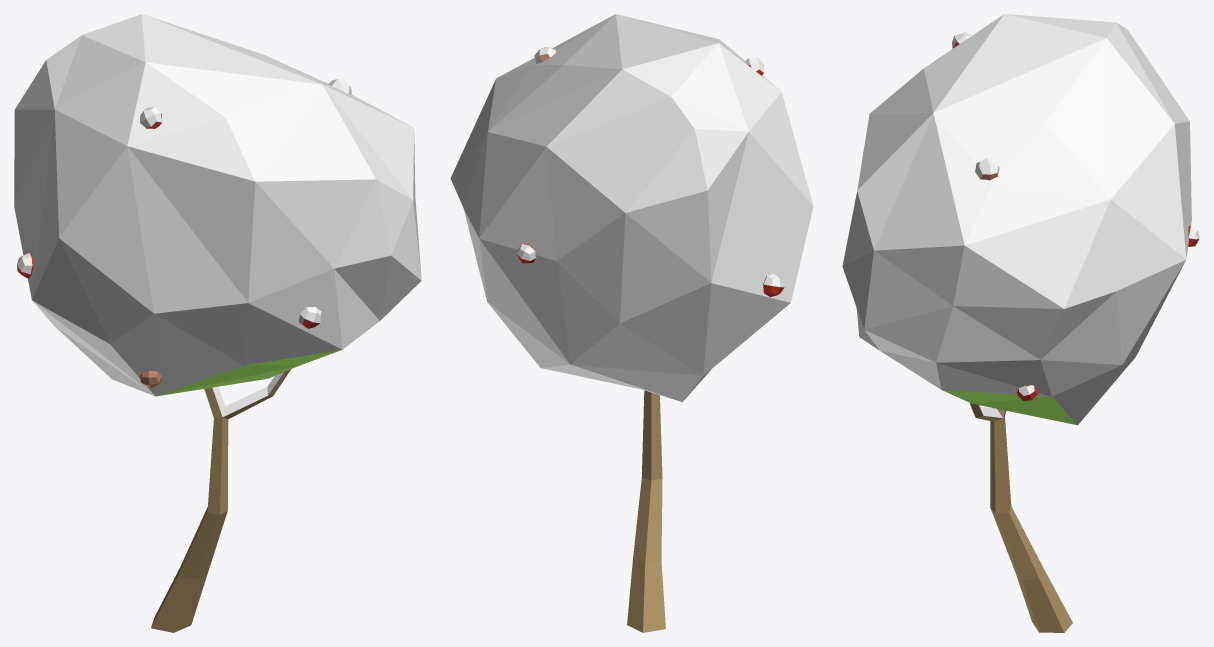
The model's file is Apple_Tree_Apples_m_Snow_04_LOD.fbx.
3 views of the same model, side by side, from view 1: azimuth 30°, elevation 25°; view 2: azimuth 150°, elevation 25°; view 3: azimuth 270°, elevation 25° (orthographic). The views are drawn at different scales.
Visible parts, largest first — view 1: Apple_Tree_Apples_m_Snow_04_LOD0; view 2: Apple_Tree_Apples_m_Snow_04_LOD0; view 3: Apple_Tree_Apples_m_Snow_04_LOD0.
Part boxes in pixels (box(x1,y1,x2,y2)): Apple_Tree_Apples_m_Snow_04_LOD0: box(14, 14, 421, 632); Apple_Tree_Apples_m_Snow_04_LOD0: box(450, 14, 813, 632); Apple_Tree_Apples_m_Snow_04_LOD0: box(842, 14, 1199, 632).
Size of what is drawn, in the model's own units: 527 by 864 by 476.
